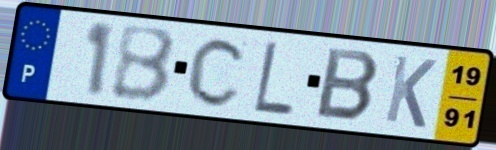1: (81, 19, 115, 99)
B: (108, 24, 179, 105), (313, 44, 383, 124)
C: (184, 34, 251, 109)
K: (382, 52, 440, 132)
L: (251, 37, 296, 118)
